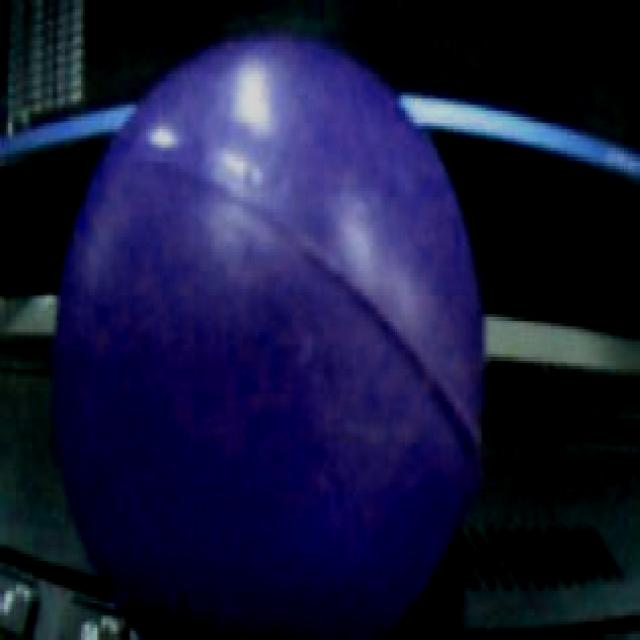BallPurple: (53, 31, 486, 634)
